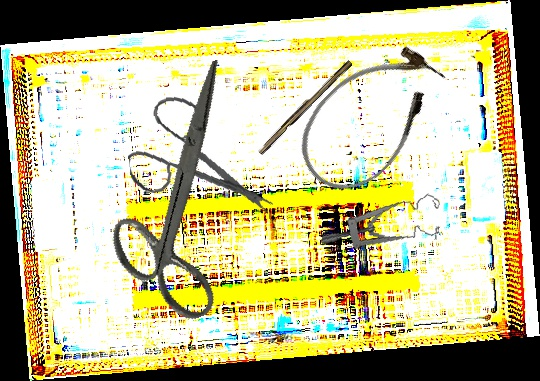Cannula: (280, 26, 461, 209)
Iris Scissors: (64, 59, 300, 337), (121, 86, 275, 231)
Scalpel Handle: (256, 57, 353, 157)
Speculum: (320, 176, 446, 265)
